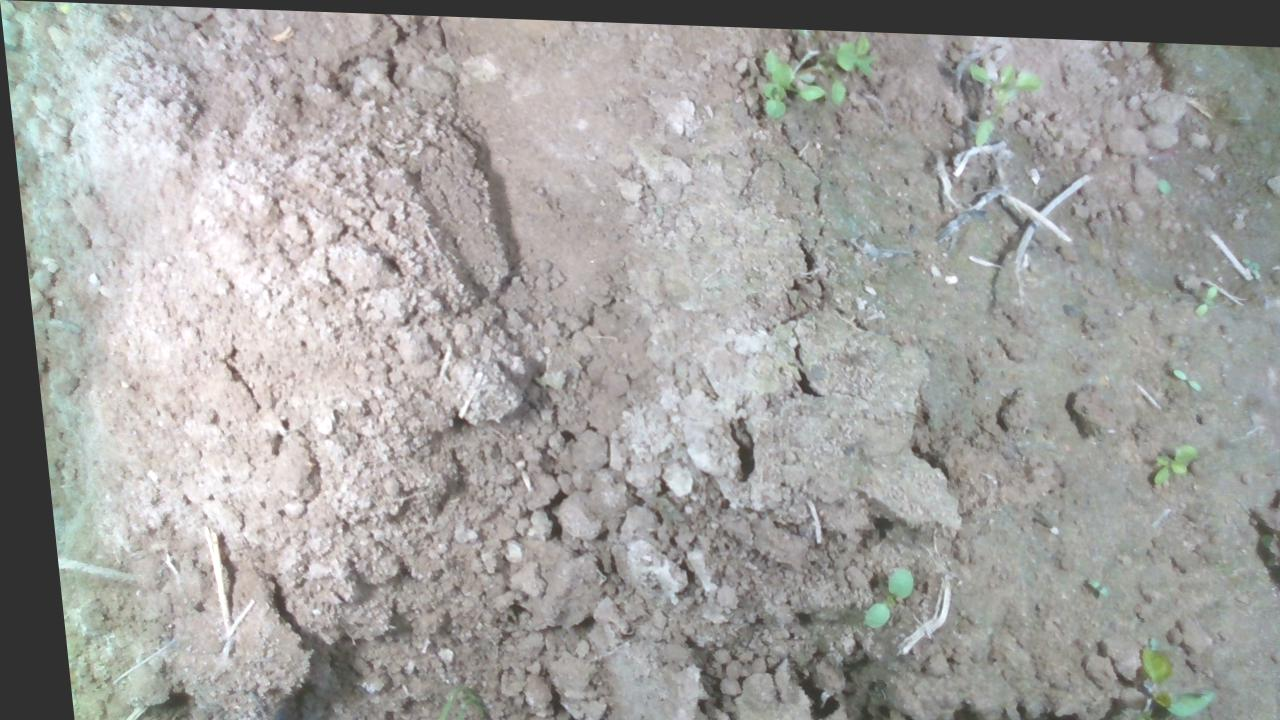weed: (845, 557, 905, 625), (1137, 432, 1194, 479), (1184, 271, 1214, 308), (1163, 357, 1194, 383), (1233, 245, 1259, 264)
